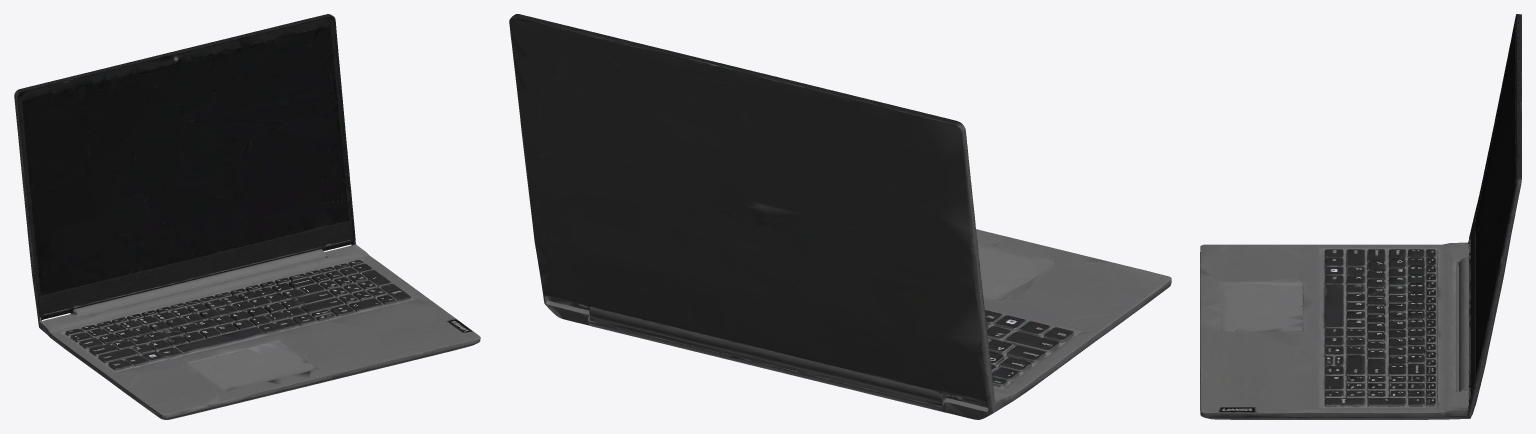
Rendered from laptop-01.glb.
The picture shows the model from 3 angles, left to right: view 1: azimuth 30°, elevation 25°; view 2: azimuth 150°, elevation 25°; view 3: azimuth 270°, elevation 25°; orthographic projection. The views are drawn at different scales.
Size of the model in its own units: 1.9 by 1.3 by 1.54.
1 material, 1 textured.
